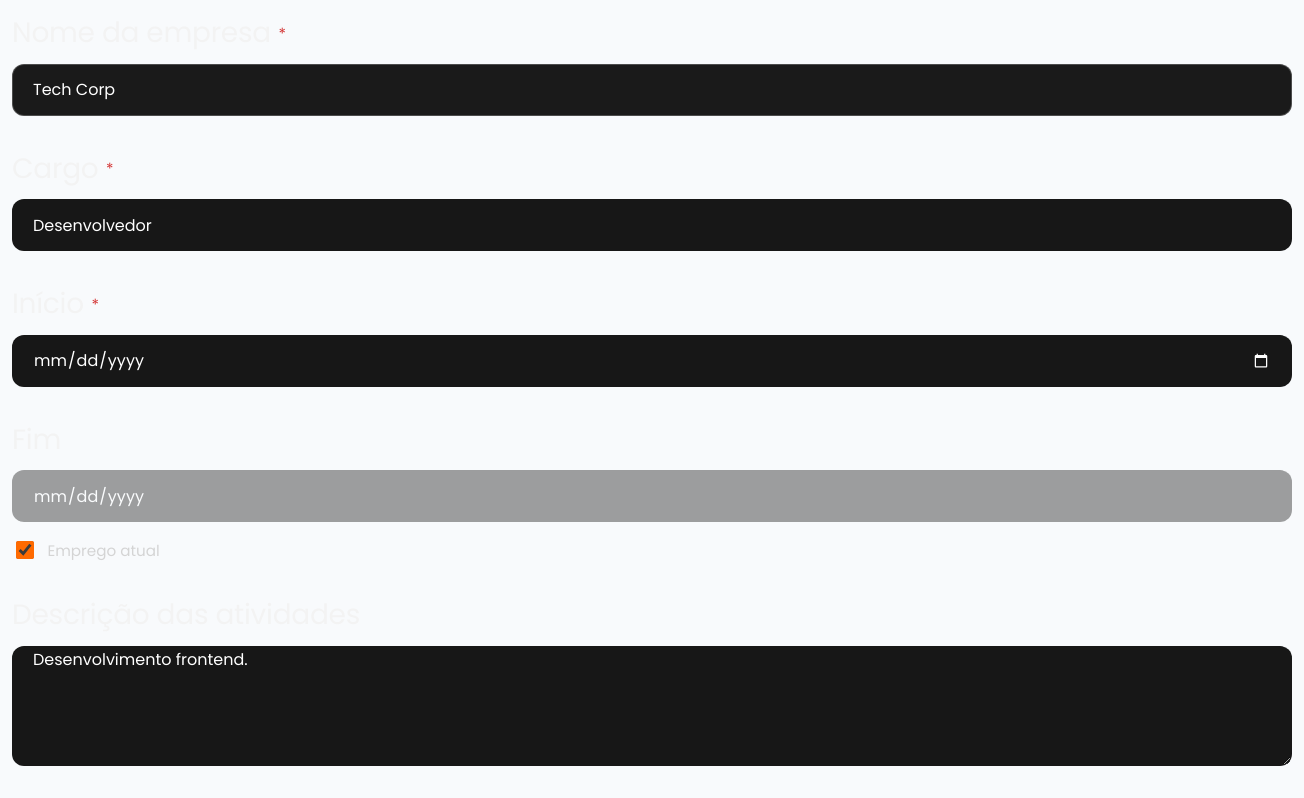
FormularioExperiencias › reabilita o campo Fim quando Emprego atual é desmarcado
This screenshot has width=1304, height=798.
Click the checkbox labelled "Emprego atual" at (25, 550), box [16,541,34,559]
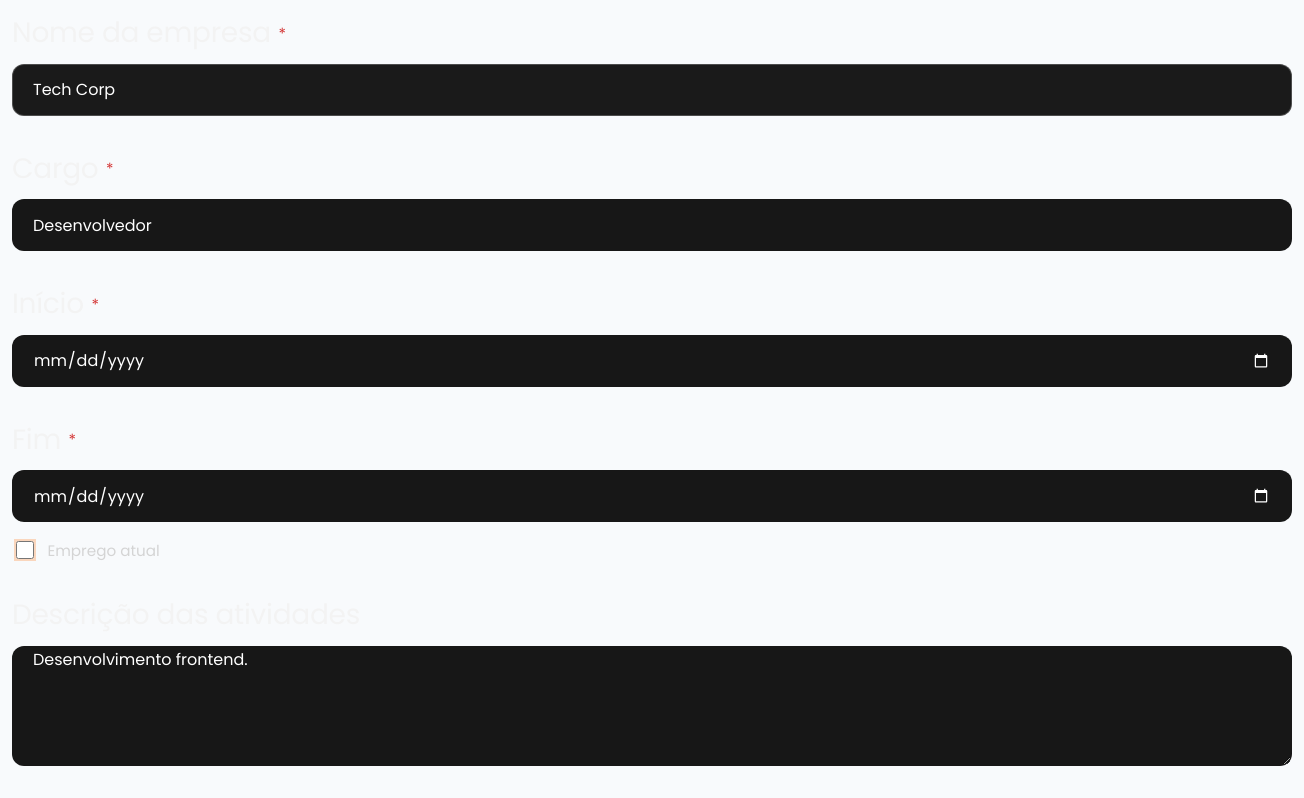
Expected: the date field labelled "Fim" is enabled, [12,470,1292,522]
